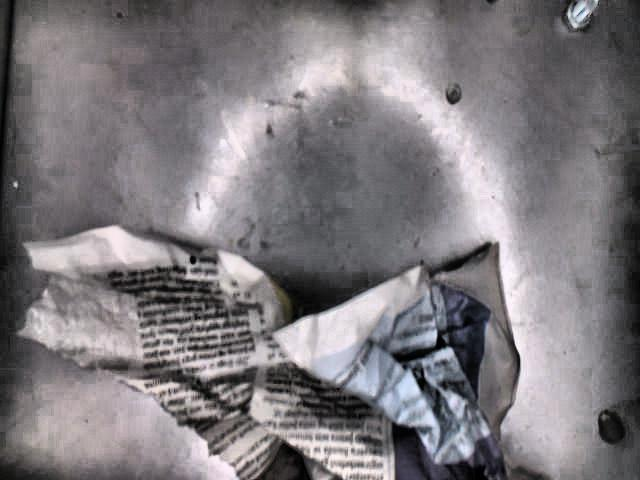Plastic: (18, 226, 561, 479)
